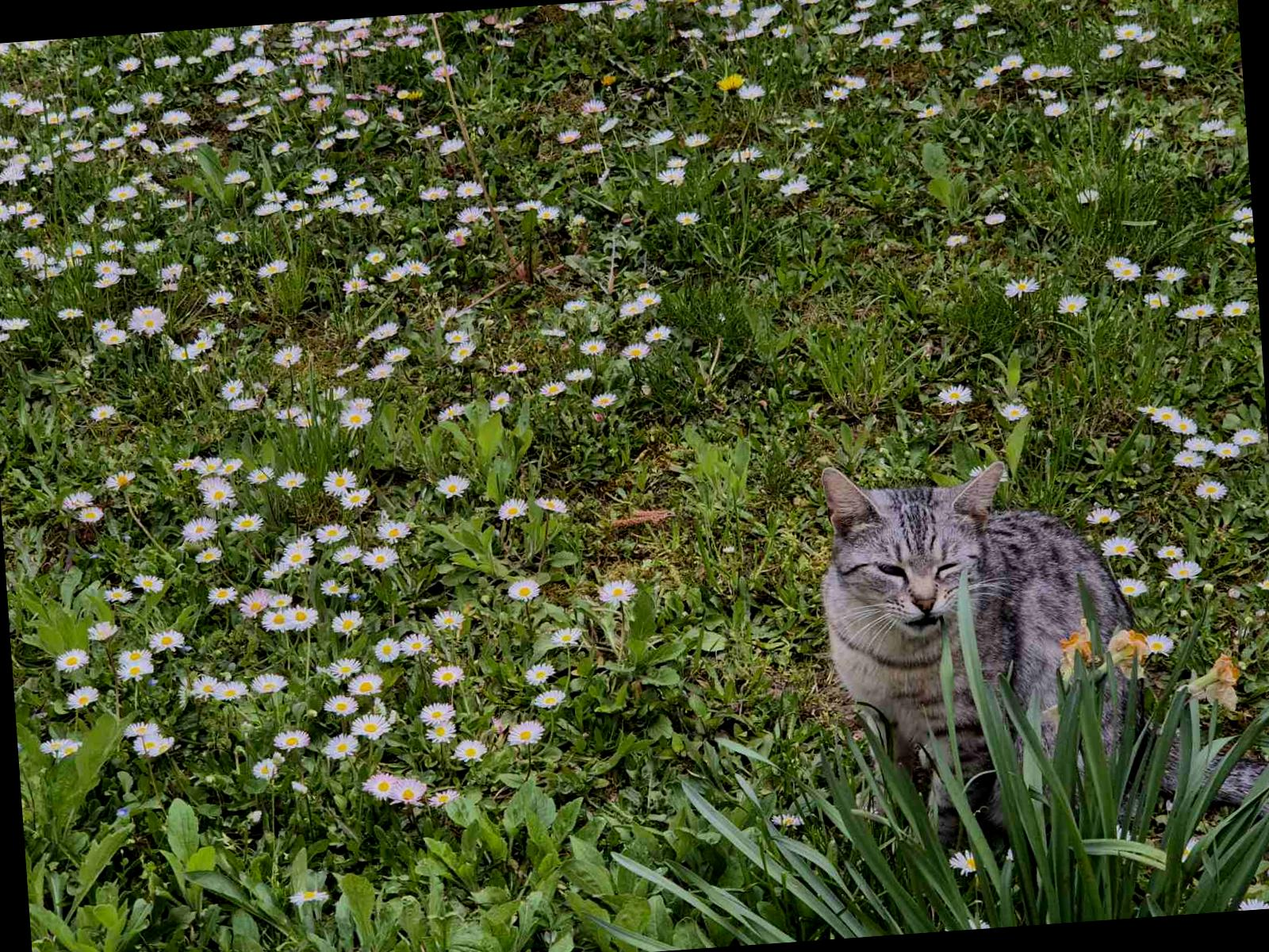macka: (814, 436, 1269, 866)
